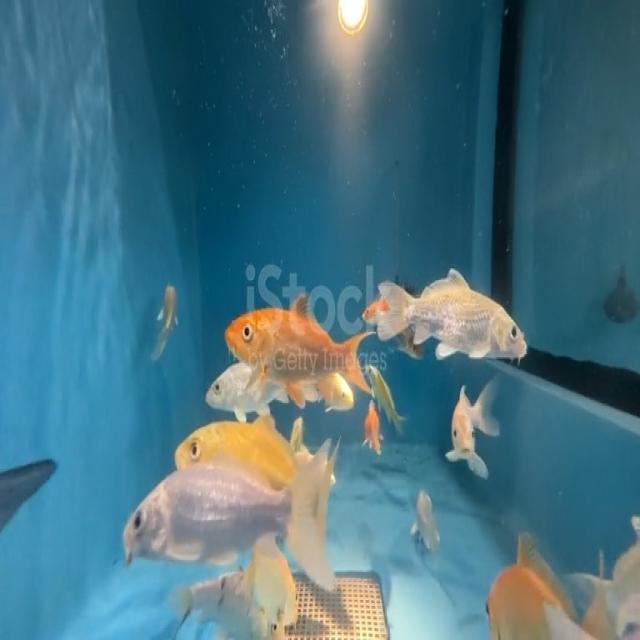fish: (115, 436, 342, 598), (222, 296, 377, 415), (374, 263, 532, 370), (175, 416, 316, 502), (476, 536, 570, 640), (447, 373, 506, 487), (200, 356, 254, 418), (148, 270, 183, 364), (410, 482, 447, 560), (367, 354, 405, 426), (363, 396, 383, 460)
